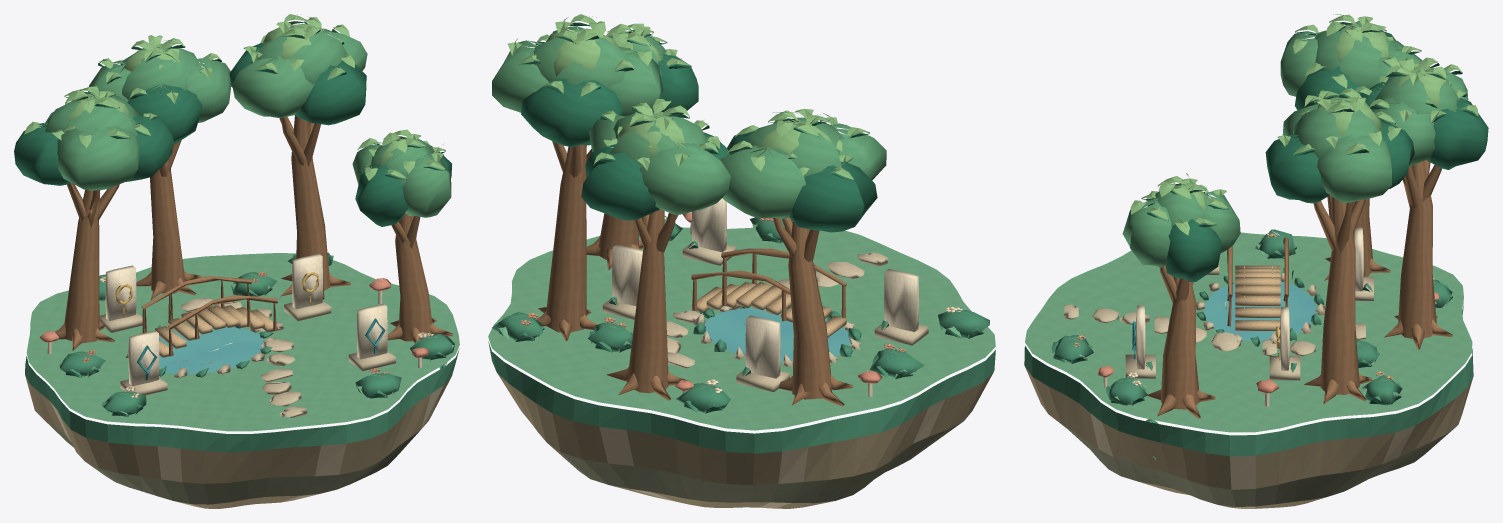
3 views of the same model, side by side, from view 1: azimuth 30°, elevation 25°; view 2: azimuth 150°, elevation 25°; view 3: azimuth 270°, elevation 25° (orthographic). The views are drawn at different scales.
Parts seen in each view (by area): view 1: memory-world_Forest grass and soft moss carpet, memory-world_Forest sage leaf canopies, memory-world_Forest warm sculpted bark, memory-world_Forest deep jade leaf undersides, memory-world_Forest deep moss roots and ground cover, memory-world_Forest weathered limestone cliff, memory-world_Forest pale exposed cliff faces, memory-world_Forest sunlit lime leaf crowns, memory-world_Forest ivory memory tablets and petals, memory-world_Forest deep sediment seams, memory-world_Forest shallow turquoise pond, memory-world_Forest honey bridge planks (+2 smaller); view 2: memory-world_Forest grass and soft moss carpet, memory-world_Forest sage leaf canopies, memory-world_Forest warm sculpted bark, memory-world_Forest deep moss roots and ground cover, memory-world_Forest deep jade leaf undersides, memory-world_Forest weathered limestone cliff, memory-world_Forest sunlit lime leaf crowns, memory-world_Forest pale exposed cliff faces, memory-world_Forest ivory memory tablets and petals, memory-world_Forest deep sediment seams, memory-world_Forest shallow turquoise pond, memory-world_Forest honey bridge planks (+1 smaller); view 3: memory-world_Forest grass and soft moss carpet, memory-world_Forest sage leaf canopies, memory-world_Forest warm sculpted bark, memory-world_Forest deep moss roots and ground cover, memory-world_Forest deep jade leaf undersides, memory-world_Forest weathered limestone cliff, memory-world_Forest sunlit lime leaf crowns, memory-world_Forest pale exposed cliff faces, memory-world_Forest deep sediment seams, memory-world_Forest honey bridge planks, memory-world_Forest shallow turquoise pond, memory-world_Forest ivory memory tablets and petals (+1 smaller).
Boxes of the visible parts, x1=… form: memory-world_Forest grass and soft moss carpet: x1=26, y1=253, x2=459, y2=431; memory-world_Forest sage leaf canopies: x1=43, y1=23, x2=451, y2=217; memory-world_Forest warm sculpted bark: x1=55, y1=116, x2=452, y2=356; memory-world_Forest deep jade leaf undersides: x1=14, y1=21, x2=451, y2=416; memory-world_Forest deep moss roots and ground cover: x1=25, y1=253, x2=459, y2=452; memory-world_Forest weathered limestone cliff: x1=25, y1=375, x2=451, y2=508; memory-world_Forest pale exposed cliff faces: x1=50, y1=297, x2=442, y2=508; memory-world_Forest sunlit lime leaf crowns: x1=24, y1=14, x2=450, y2=342; memory-world_Forest ivory memory tablets and petals: x1=47, y1=254, x2=434, y2=397; memory-world_Forest deep sediment seams: x1=44, y1=420, x2=420, y2=504; memory-world_Forest shallow turquoise pond: x1=159, y1=326, x2=263, y2=374; memory-world_Forest honey bridge planks: x1=155, y1=305, x2=277, y2=357; memory-world_Forest grass and soft moss carpet: x1=488, y1=224, x2=995, y2=430; memory-world_Forest sage leaf canopies: x1=492, y1=26, x2=886, y2=218; memory-world_Forest warm sculpted bark: x1=536, y1=141, x2=853, y2=406; memory-world_Forest deep moss roots and ground cover: x1=488, y1=216, x2=995, y2=453; memory-world_Forest deep jade leaf undersides: x1=499, y1=22, x2=983, y2=413; memory-world_Forest weathered limestone cliff: x1=497, y1=372, x2=993, y2=508; memory-world_Forest sunlit lime leaf crowns: x1=500, y1=14, x2=869, y2=320; memory-world_Forest pale exposed cliff faces: x1=599, y1=243, x2=945, y2=508; memory-world_Forest ivory memory tablets and petals: x1=612, y1=198, x2=962, y2=396; memory-world_Forest deep sediment seams: x1=547, y1=422, x2=962, y2=503; memory-world_Forest shallow turquoise pond: x1=704, y1=307, x2=850, y2=361; memory-world_Forest honey bridge planks: x1=692, y1=282, x2=846, y2=337; memory-world_Forest grass and soft moss carpet: x1=1025, y1=232, x2=1472, y2=432; memory-world_Forest sage leaf canopies: x1=1122, y1=20, x2=1468, y2=267; memory-world_Forest warm sculpted bark: x1=1147, y1=160, x2=1452, y2=418; memory-world_Forest deep moss roots and ground cover: x1=1024, y1=229, x2=1473, y2=459; memory-world_Forest deep jade leaf undersides: x1=1053, y1=22, x2=1488, y2=405; memory-world_Forest weathered limestone cliff: x1=1025, y1=366, x2=1473, y2=508; memory-world_Forest sunlit lime leaf crowns: x1=1081, y1=14, x2=1478, y2=395; memory-world_Forest pale exposed cliff faces: x1=1064, y1=261, x2=1414, y2=508; memory-world_Forest deep sediment seams: x1=1052, y1=417, x2=1456, y2=506; memory-world_Forest honey bridge planks: x1=1235, y1=265, x2=1280, y2=330; memory-world_Forest shallow turquoise pond: x1=1204, y1=281, x2=1316, y2=341; memory-world_Forest ivory memory tablets and petals: x1=1103, y1=227, x2=1434, y2=406.
Size of the model in its own units: 4.11 by 4.19 by 3.96.
15 materials, 15 textured.
